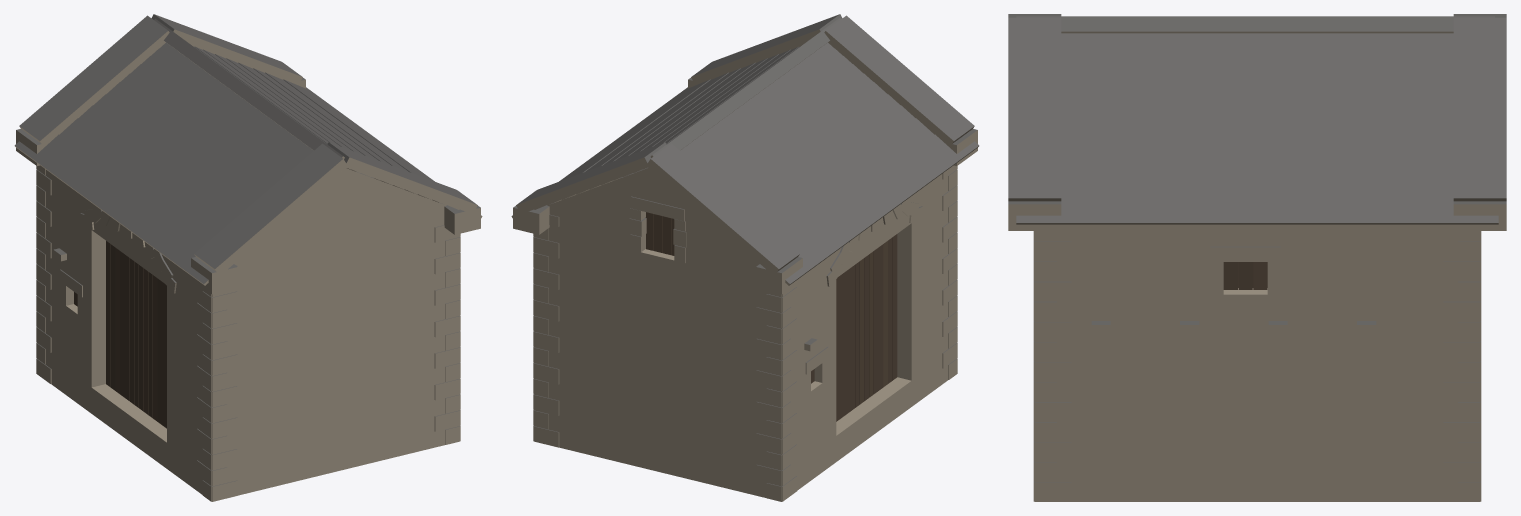
Rendered from context.dales.barn_05.glb.
3 views of the same model, side by side, from view 1: azimuth 30°, elevation 25°; view 2: azimuth 150°, elevation 25°; view 3: azimuth 270°, elevation 25° (orthographic). The views are drawn at different scales.
Visible parts, largest first — view 1: main__stone_a98, main__slate_666, main__paint_543, main__paint_544; view 2: main__stone_a98, main__slate_666, main__paint_543, main__paint_544, main__paint_654, main__paint_554; view 3: main__stone_a98, main__slate_666, main__paint_543.
Part boxes in pixels (left/top/right/bottom): main__stone_a98: left=15, top=29, right=482, bottom=501; main__slate_666: left=14, top=14, right=481, bottom=486; main__paint_543: left=74, top=241, right=166, bottom=428; main__paint_544: left=115, top=247, right=157, bottom=421; main__stone_a98: left=511, top=29, right=978, bottom=501; main__slate_666: left=512, top=14, right=979, bottom=486; main__paint_543: left=811, top=234, right=897, bottom=421; main__paint_544: left=859, top=251, right=873, bottom=404; main__paint_654: left=645, top=212, right=674, bottom=255; main__paint_554: left=883, top=241, right=887, bottom=387; main__stone_a98: left=1008, top=31, right=1506, bottom=501; main__slate_666: left=1008, top=14, right=1506, bottom=482; main__paint_543: left=1223, top=262, right=1267, bottom=289.
Bounding box in the file's own units: 5.55 × 6.12 × 6.76.
